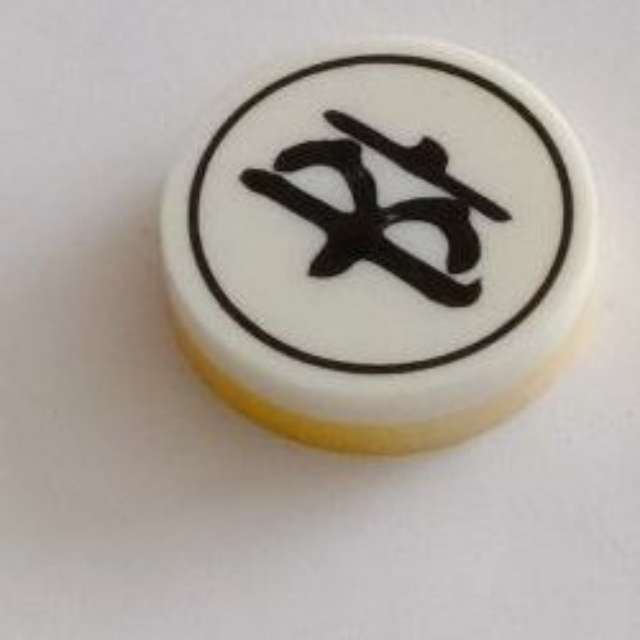black_chot: (152, 32, 592, 459)
